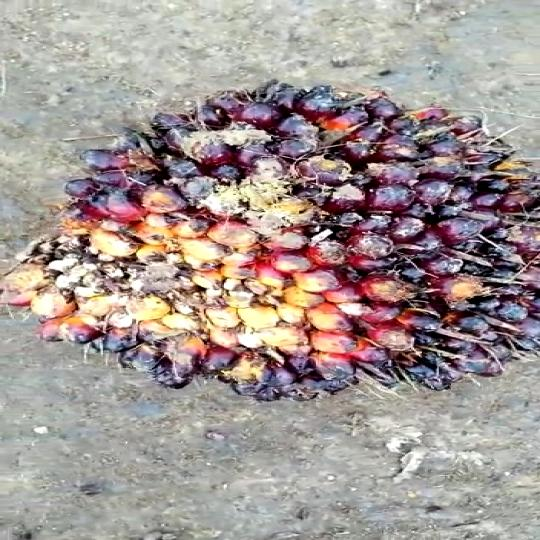kurang masak: (0, 70, 540, 404)
